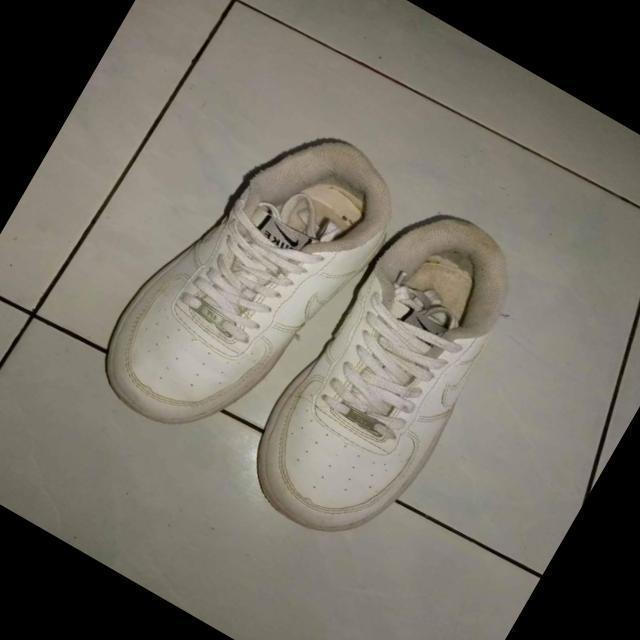nike fake air force: (79, 81, 419, 473), (218, 173, 547, 566)
